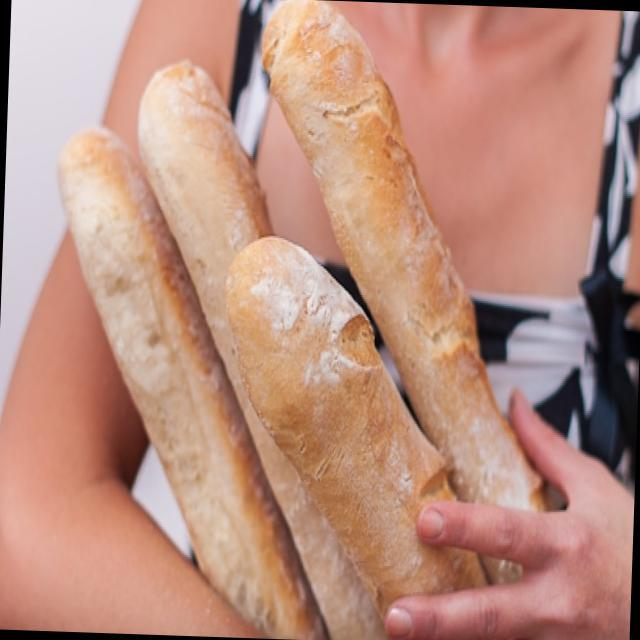Bread: (262, 1, 627, 362)
